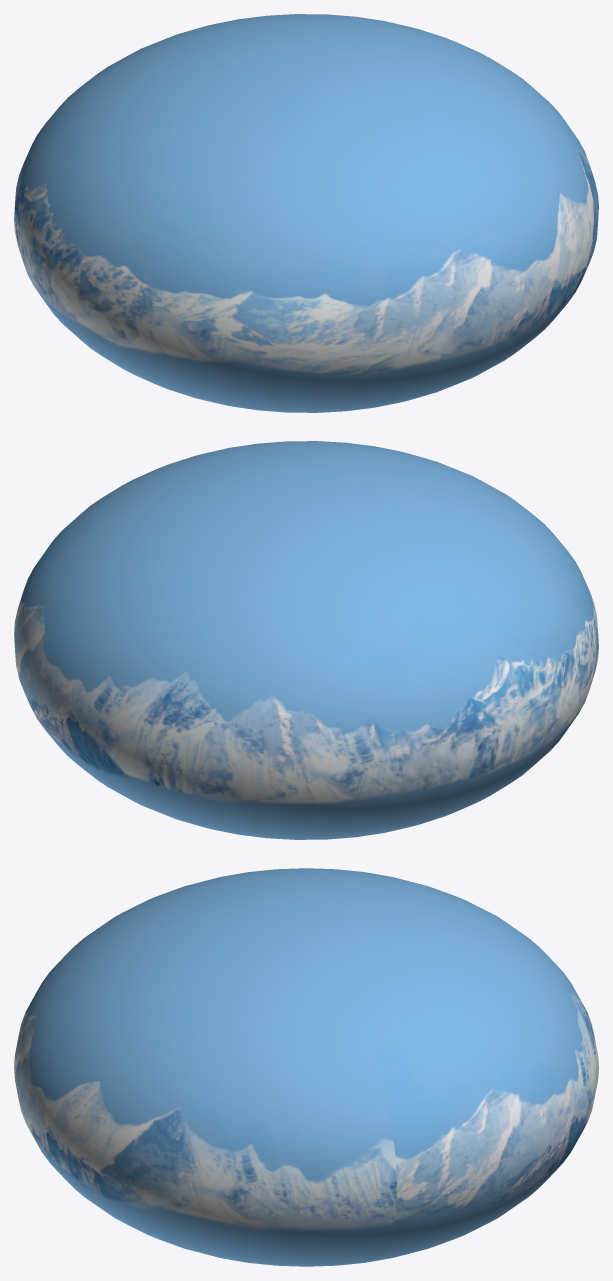
Rendered from qiu4.fbx.
3 renders of one model, top to bottom at view 1: azimuth 30°, elevation 25°; view 2: azimuth 150°, elevation 25°; view 3: azimuth 270°, elevation 25°, orthographic.
Visible parts, largest first — view 1: pSphere1; view 2: pSphere1; view 3: pSphere1.
Boxes of the visible parts, bbox=[...] form: pSphere1: bbox=[14, 14, 598, 412]; pSphere1: bbox=[14, 441, 598, 839]; pSphere1: bbox=[14, 868, 598, 1266].
Size of the model in its own units: 1969 by 1165 by 1969.
